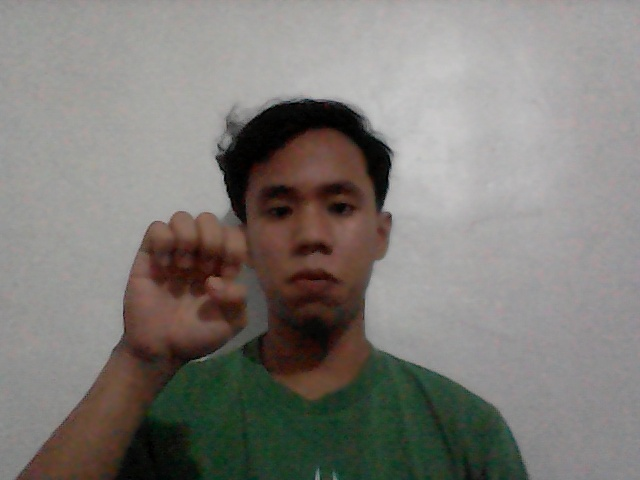E: (84, 193, 275, 389)
